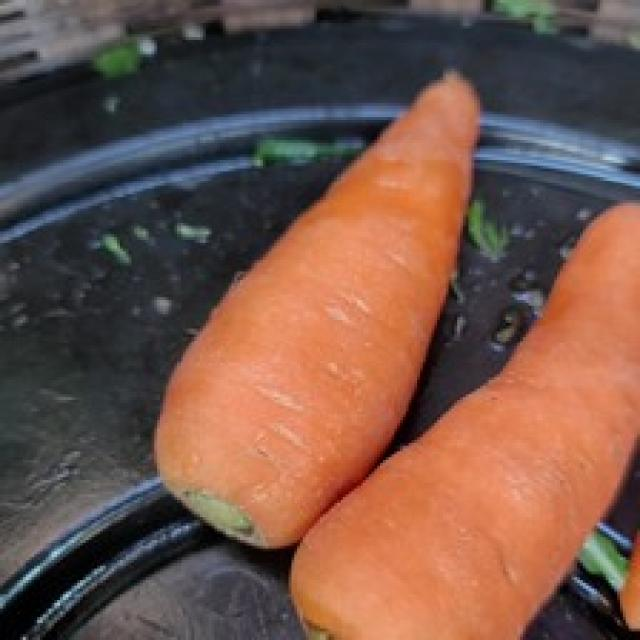carrot: (153, 76, 489, 551), (290, 200, 640, 637)
